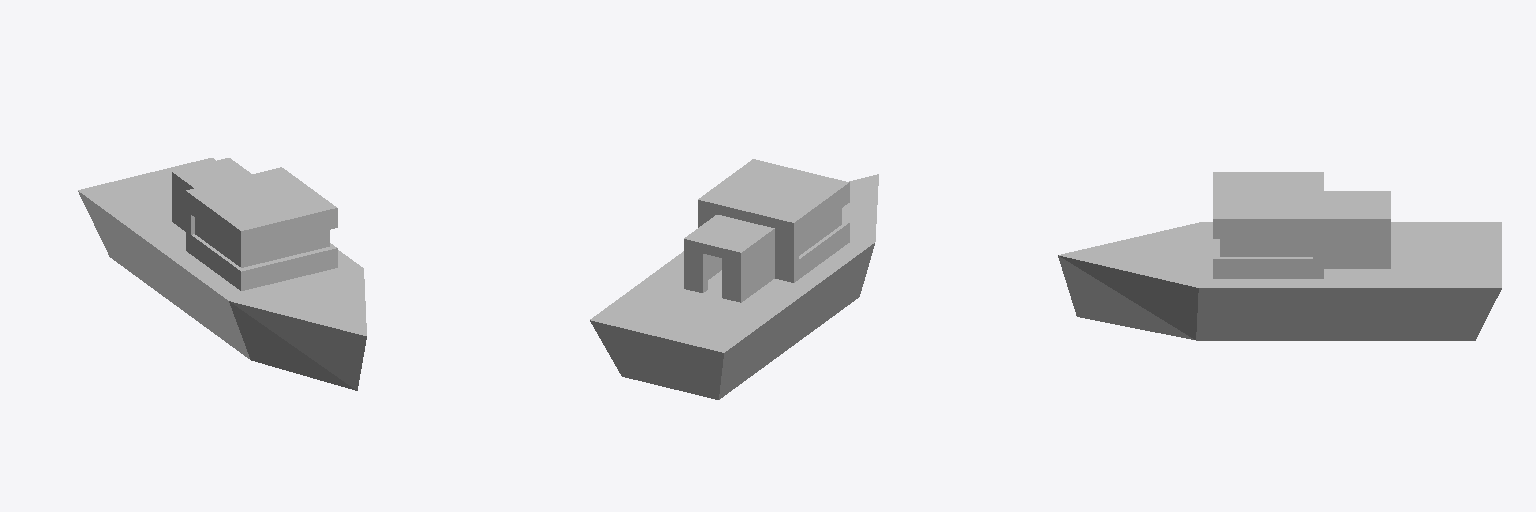
The model's file is corvette.obj.
3 views of the same model, side by side, from view 1: azimuth 30°, elevation 25°; view 2: azimuth 150°, elevation 25°; view 3: azimuth 270°, elevation 25° (orthographic).
Visible parts, largest first — view 1: cylinder, cube14, cube7, cube8, cube19, cube10, cube6, cube9, cube17; view 2: cylinder, cube14, cube6, cube10, cube9, cube1, cube, cube3, cube17, cube12, cube7; view 3: cylinder, cube14, cube6, cube12, cube2, cube11, cube18, cube7.
Boxes of the visible parts, box(x1,y1,x2,y2) form: cylinder: box(78, 158, 366, 390); cube14: box(196, 170, 321, 224); cube7: box(236, 204, 337, 250); cube8: box(236, 244, 337, 290); cube19: box(241, 230, 329, 267); cube10: box(186, 188, 244, 246); cube6: box(172, 158, 251, 191); cube9: box(186, 231, 238, 286); cube17: box(195, 218, 240, 266); cylinder: box(590, 174, 878, 399); cube14: box(707, 165, 833, 230); cube6: box(684, 215, 774, 262); cube10: box(784, 184, 843, 242); cube9: box(784, 226, 843, 282); cube1: box(747, 239, 774, 297); cube: box(722, 258, 746, 302); cube3: box(684, 249, 707, 292); cube17: box(799, 208, 841, 255); cube12: box(698, 163, 756, 221); cube7: box(748, 159, 849, 205); cylinder: box(1058, 222, 1501, 340); cube14: box(1224, 176, 1323, 213); cube6: box(1324, 191, 1390, 228); cube12: box(1224, 214, 1323, 238); cube2: box(1324, 229, 1379, 268); cube11: box(1224, 257, 1323, 278); cube18: box(1220, 239, 1312, 256); cube7: box(1213, 172, 1223, 238).
Bounding box in the file's own units: 7 × 6.05 × 20.